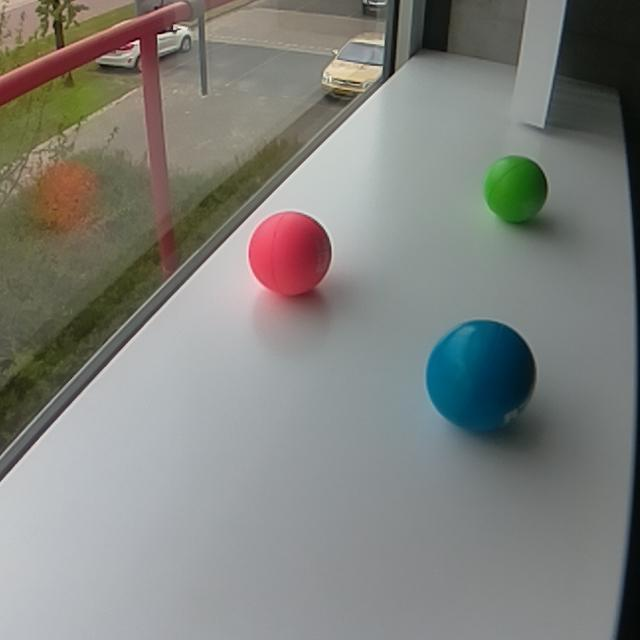ball: (422, 314, 538, 438), (246, 209, 334, 299), (482, 152, 552, 226)
